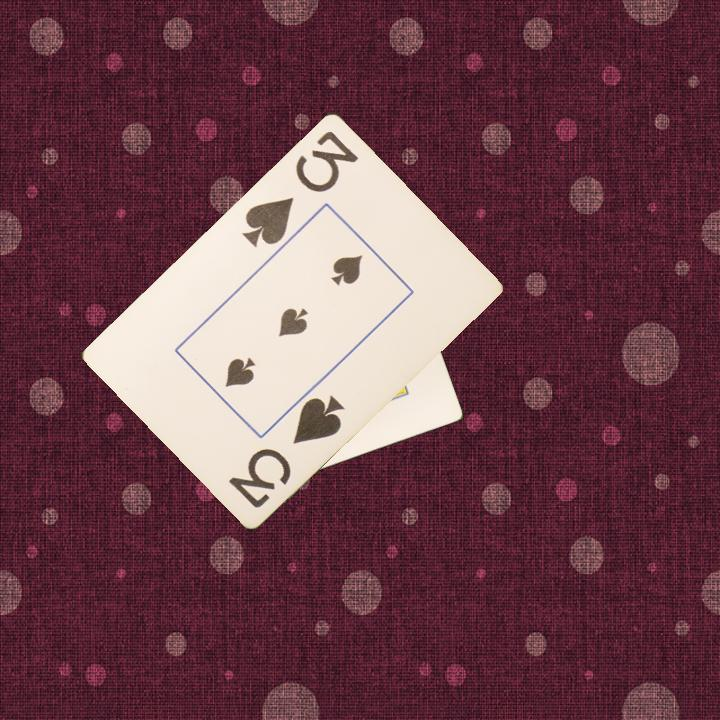3s: (238, 126, 362, 250), (225, 390, 348, 511)
